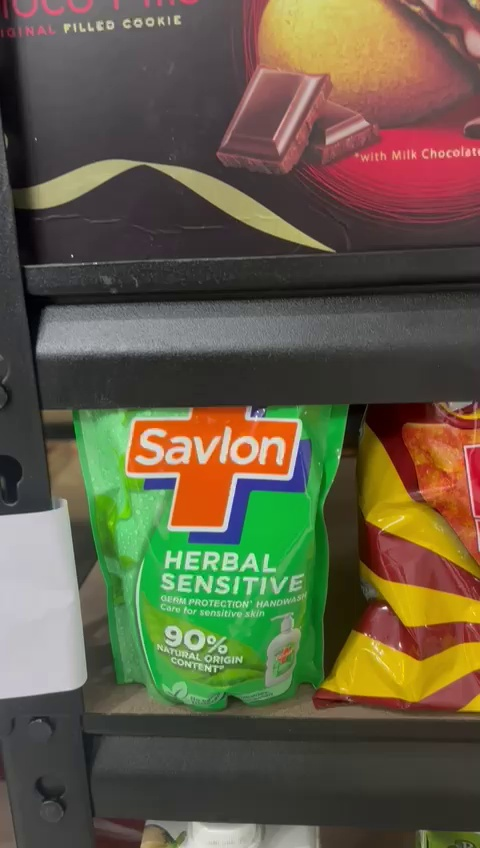Savlon Herbal: (68, 402, 350, 715)
